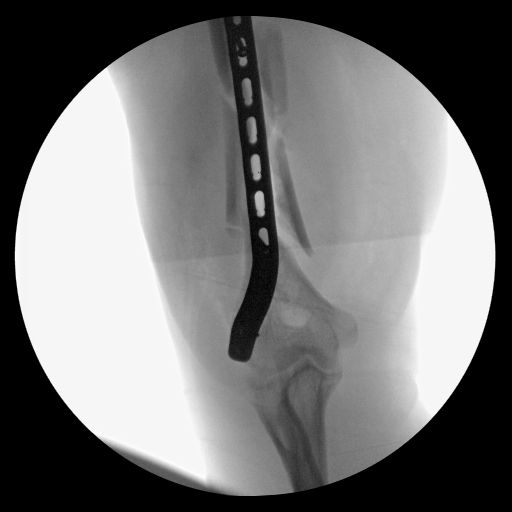implant: (218, 17, 281, 364)
